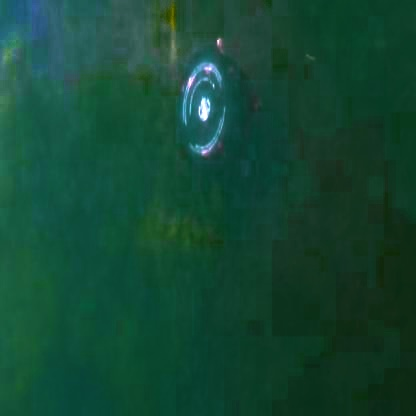can: (179, 55, 309, 209)
